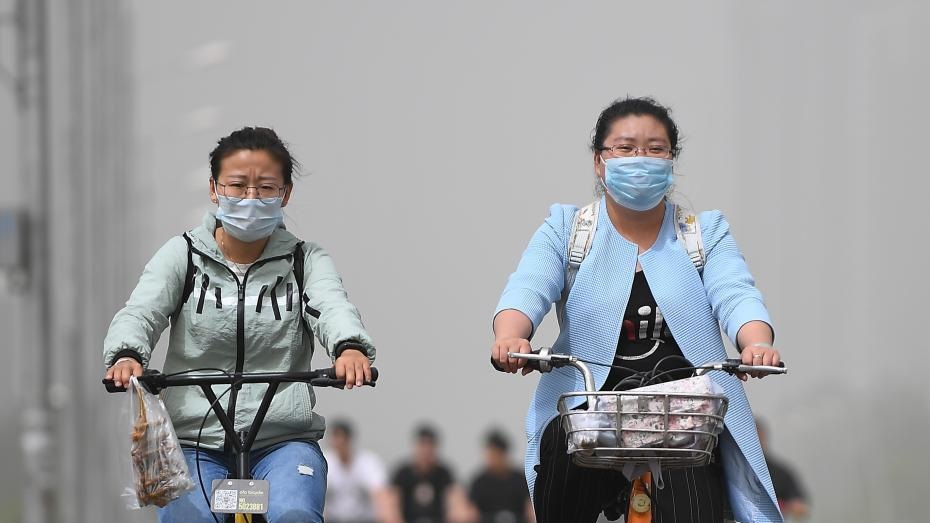face_mask: (601, 118, 672, 212), (218, 153, 283, 241)
